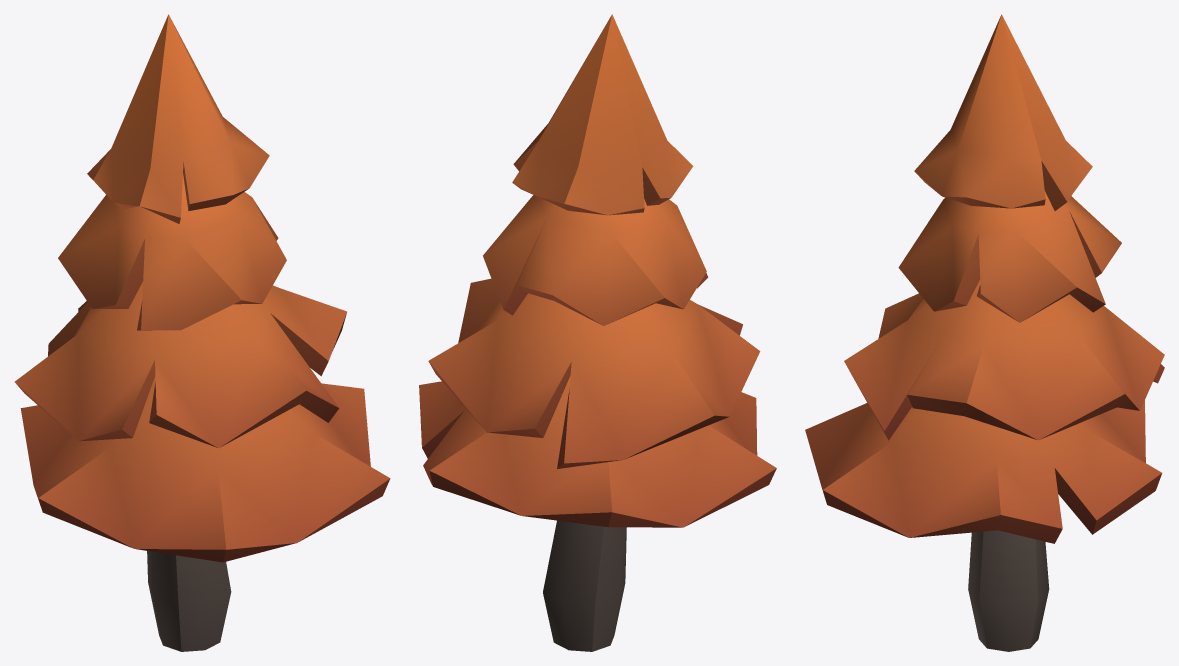
The model's file is tree_pine_orange_medium.glb.
3 views of the same model, side by side, from view 1: azimuth 30°, elevation 25°; view 2: azimuth 150°, elevation 25°; view 3: azimuth 270°, elevation 25° (orthographic). The views are drawn at different scales.
Visible parts, largest first — view 1: tree_pine_orange_medium; view 2: tree_pine_orange_medium; view 3: tree_pine_orange_medium.
Part boxes in pixels (left/top/right/bottom): tree_pine_orange_medium: left=14, top=14, right=390, bottom=651; tree_pine_orange_medium: left=419, top=14, right=776, bottom=651; tree_pine_orange_medium: left=805, top=14, right=1164, bottom=651.
Bounding box in the file's own units: 3.33 × 5.87 × 3.12.
Materials: 1 (1 with a texture image).
